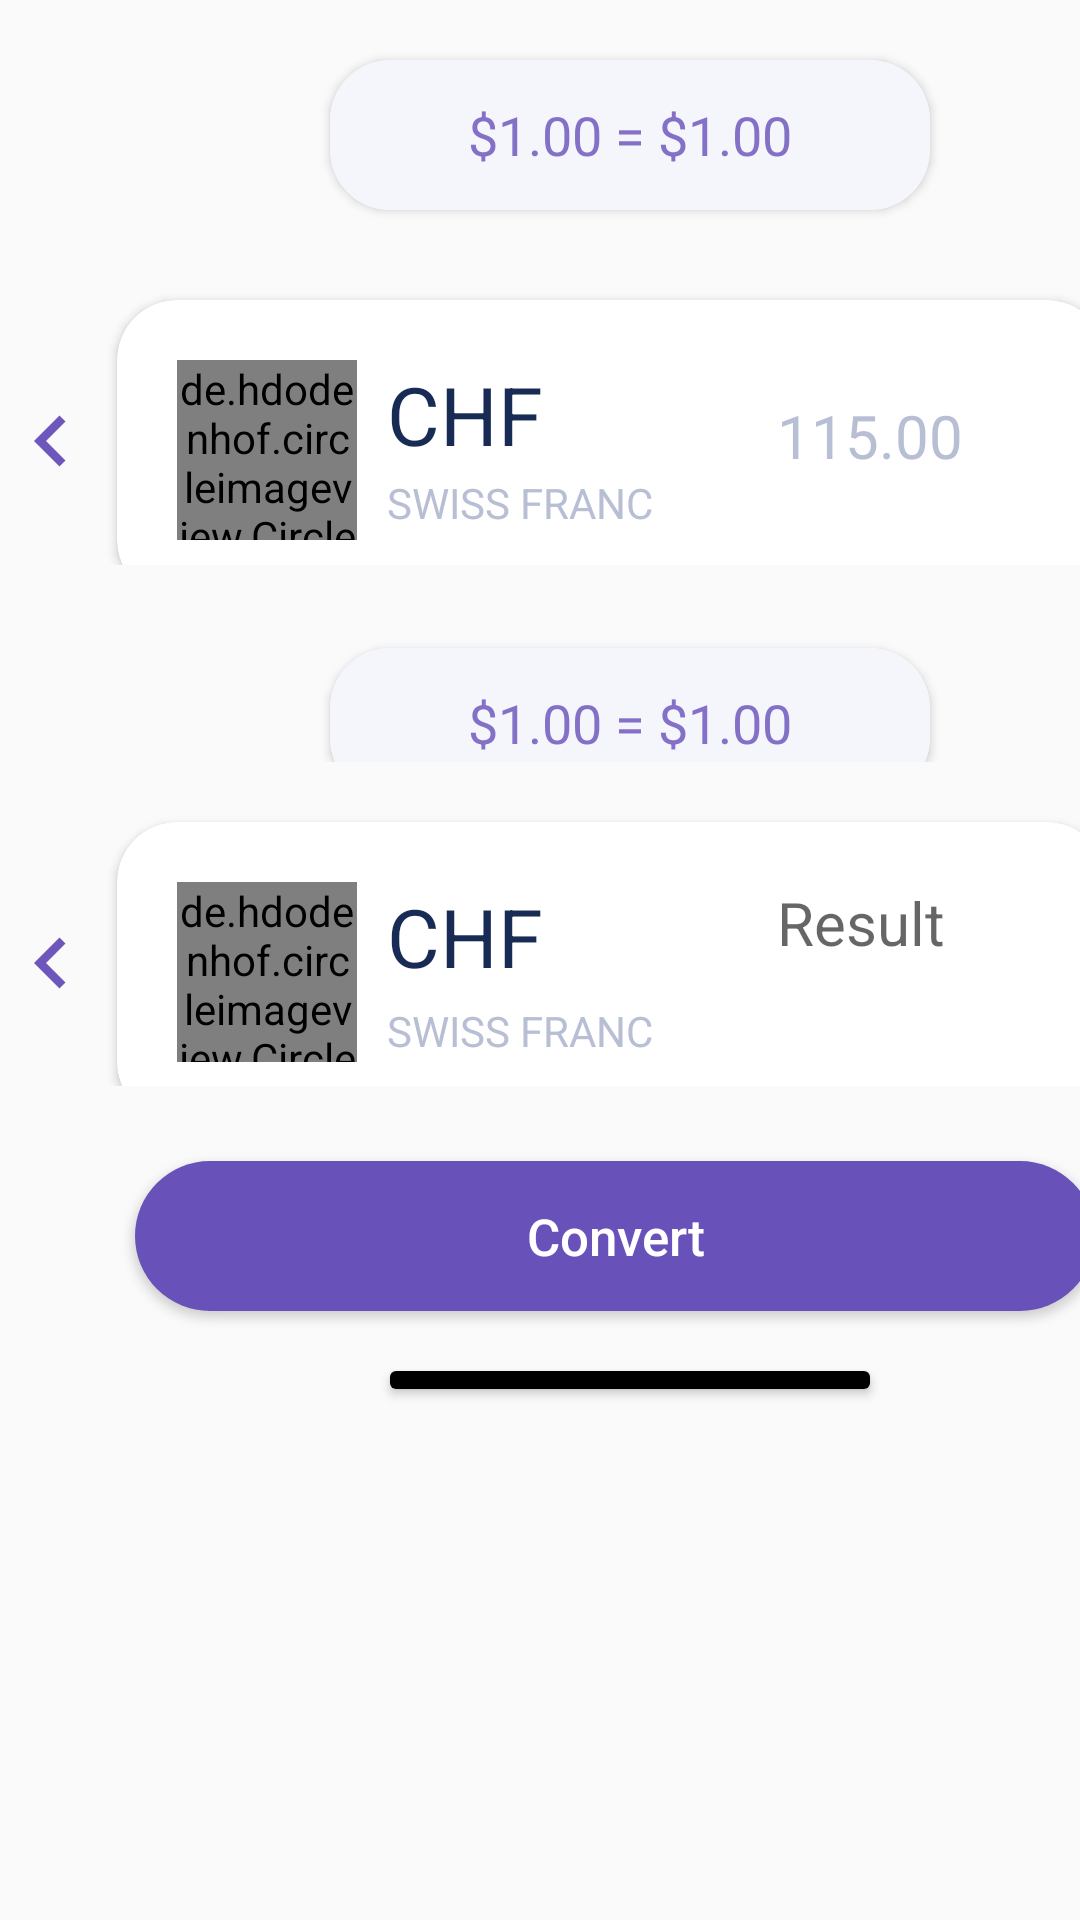

Icon bounding boxes for this 1080px x 1920px phone screenshot, format (x1, y1, x2, y2):
keyboard arrow left: (34, 415, 66, 467), (34, 937, 66, 989)
